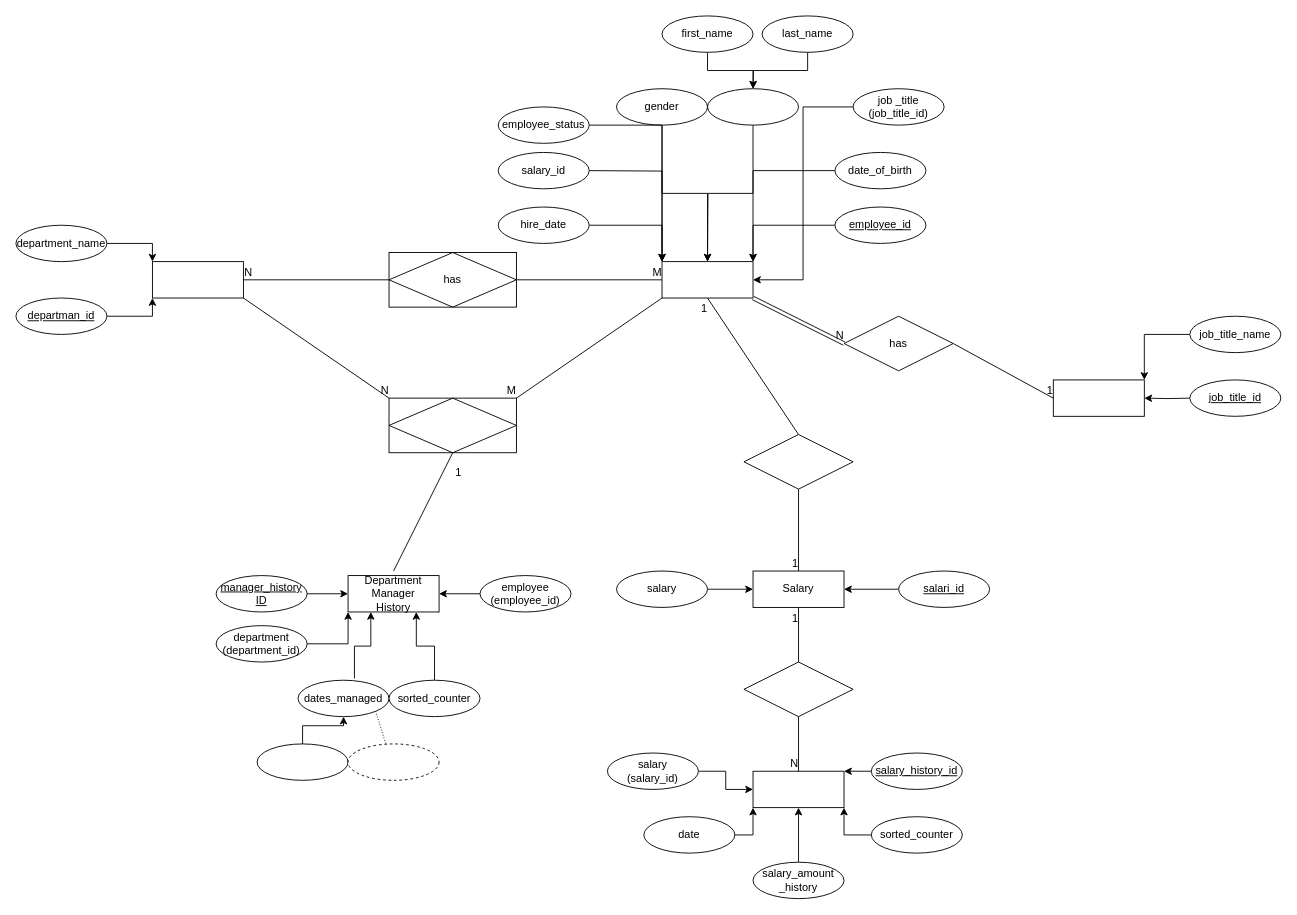
Some shapes in this 1297 by 915 pixel diagram are drawn without their labels. Each missing label, with the centre of its shape:
"Departments" belongs at pixel 197 279.
"earns" belongs at pixel 798 461.
"Employees" belongs at pixel 707 279.
"end_date" belongs at pixel 393 761.
"Job Title" belongs at pixel 1098 397.
"manages" belongs at pixel 452 425.
"name" belongs at pixel 753 106.
"records" belongs at pixel 798 689.
"Salary History" belongs at pixel 798 789.
"start_date" belongs at pixel 302 761.
